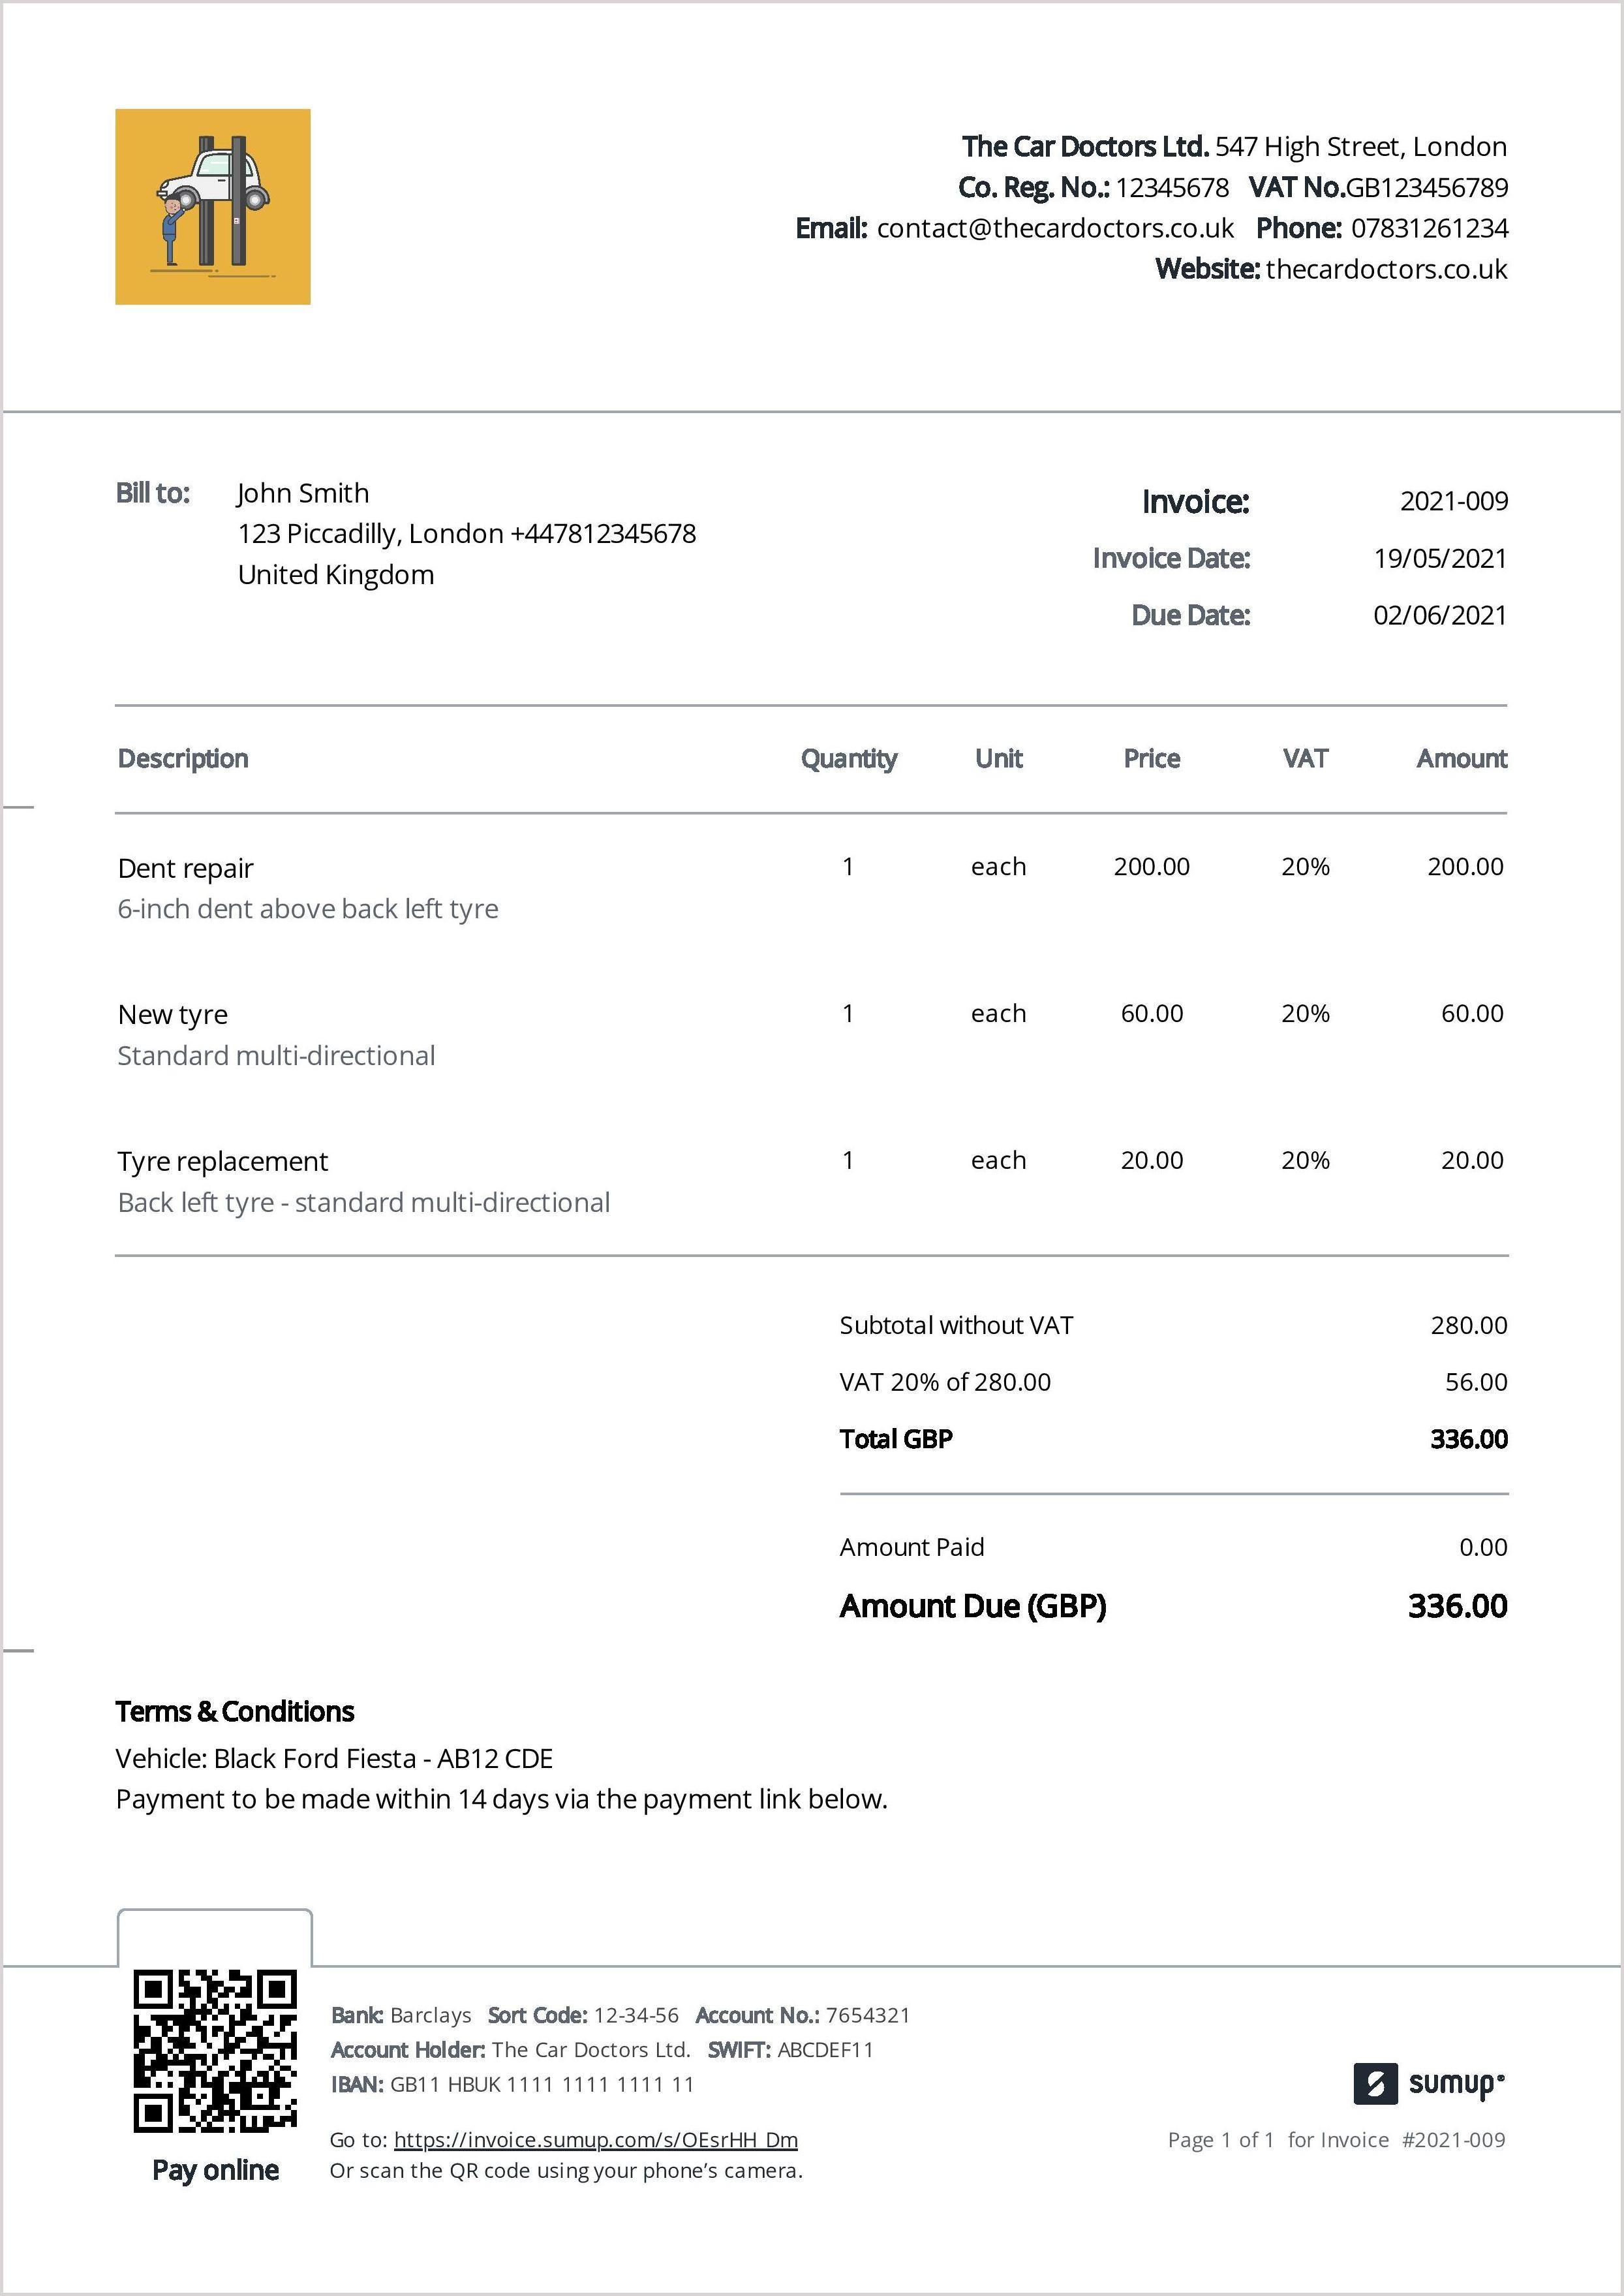ROI: (116, 707, 1513, 1248), (833, 1301, 1524, 1631), (327, 1981, 930, 2199), (779, 116, 1522, 288), (1086, 473, 1534, 658), (105, 466, 714, 601)
